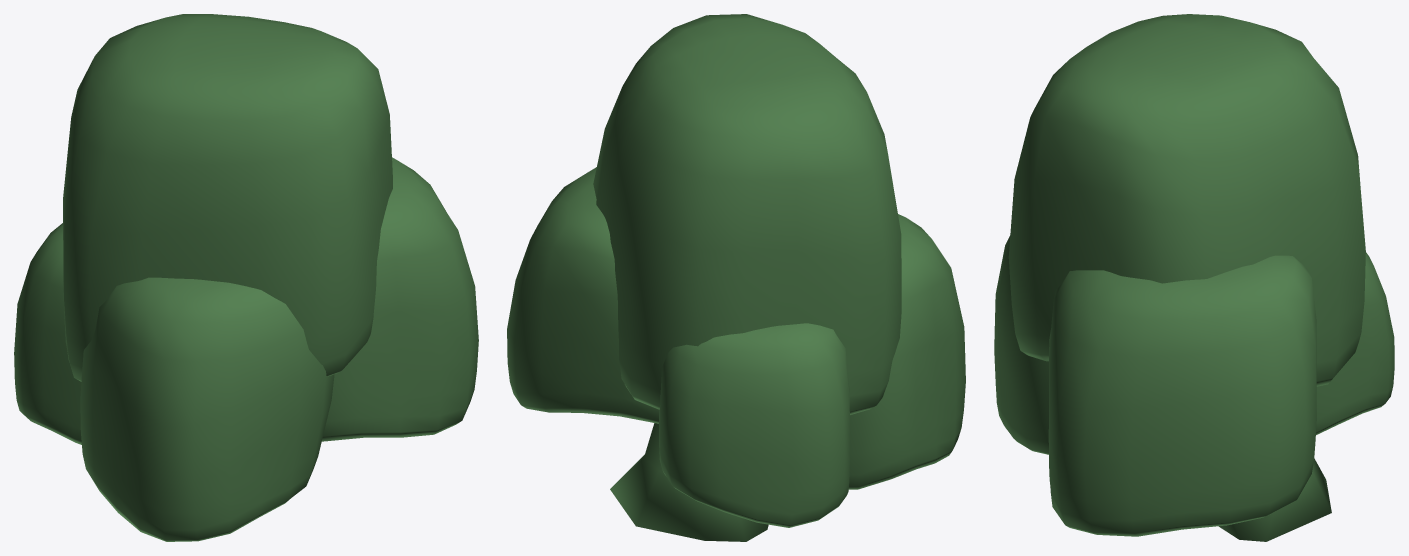
The model's file is bush3.glb.
The picture shows the model from 3 angles, left to right: view 1: azimuth 30°, elevation 25°; view 2: azimuth 150°, elevation 25°; view 3: azimuth 270°, elevation 25°; orthographic projection. The views are drawn at different scales.
Parts seen in each view (by area): view 1: bush3; view 2: bush3; view 3: bush3.
Part boxes in pixels (x1,y1,x2,y2): bush3: [14, 14, 478, 541]; bush3: [507, 14, 965, 541]; bush3: [994, 14, 1394, 541].
Size of the model in its own units: 1.06 by 1.2 by 0.9772.
